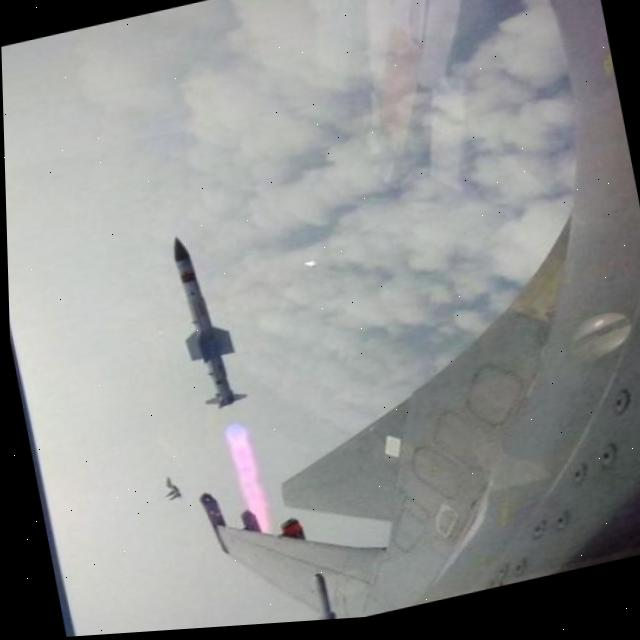missile: (164, 229, 243, 421)
